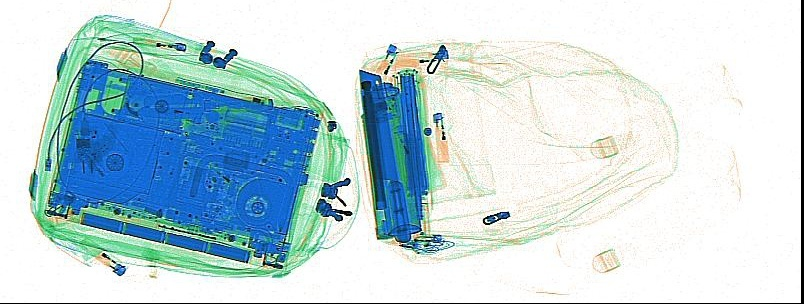knife: (357, 67, 411, 243), (85, 62, 156, 169), (134, 92, 266, 120)
lighter: (78, 237, 125, 276), (133, 35, 186, 54), (432, 112, 449, 163), (375, 43, 398, 76)
pressure: (365, 61, 420, 235)
